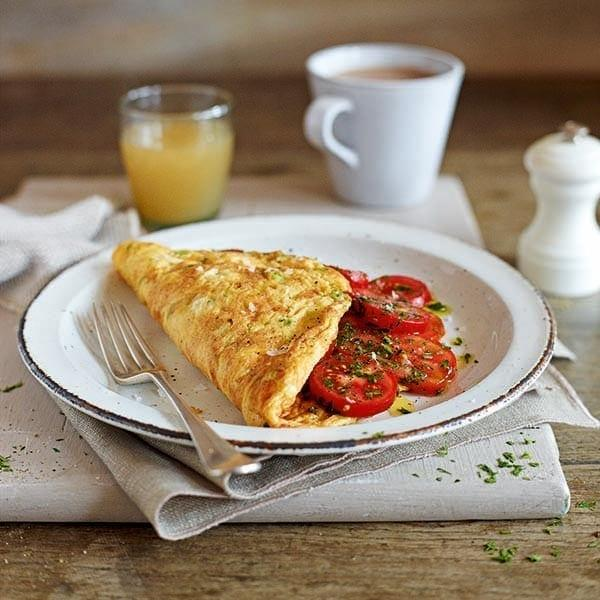omelette: (114, 244, 460, 427)
